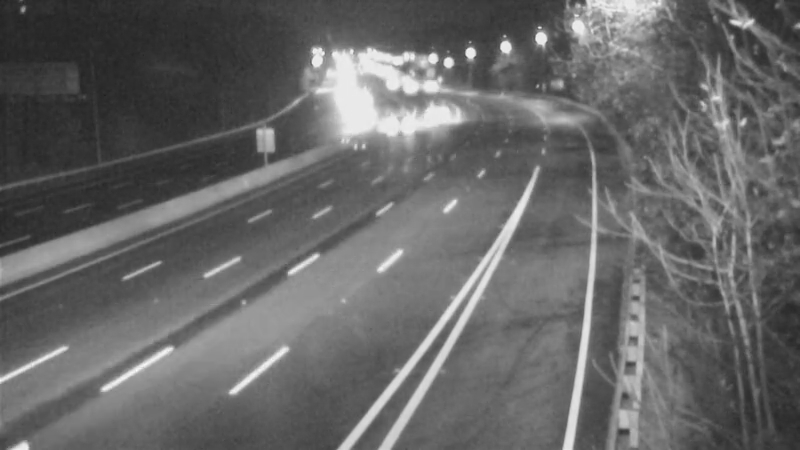vehicle: (400, 60, 450, 110), (399, 101, 449, 151), (365, 103, 415, 153)
